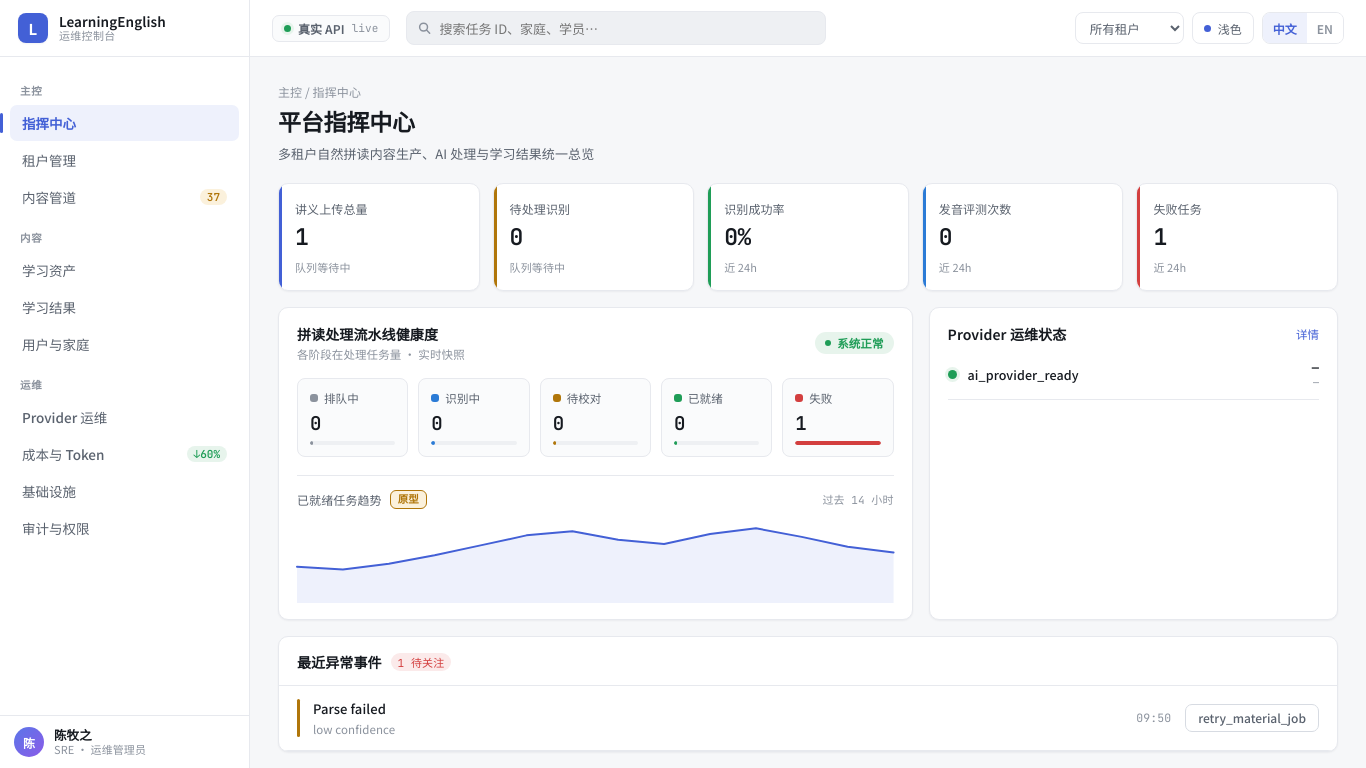
it: live wiring (newly connected endpoints) › renders live learning assets and flags no-backend controls as prototype
Check: the text "真实 API" is shown, box [298, 20, 345, 36]
Click the button "学习资产": (124,270) [10, 252, 239, 288]
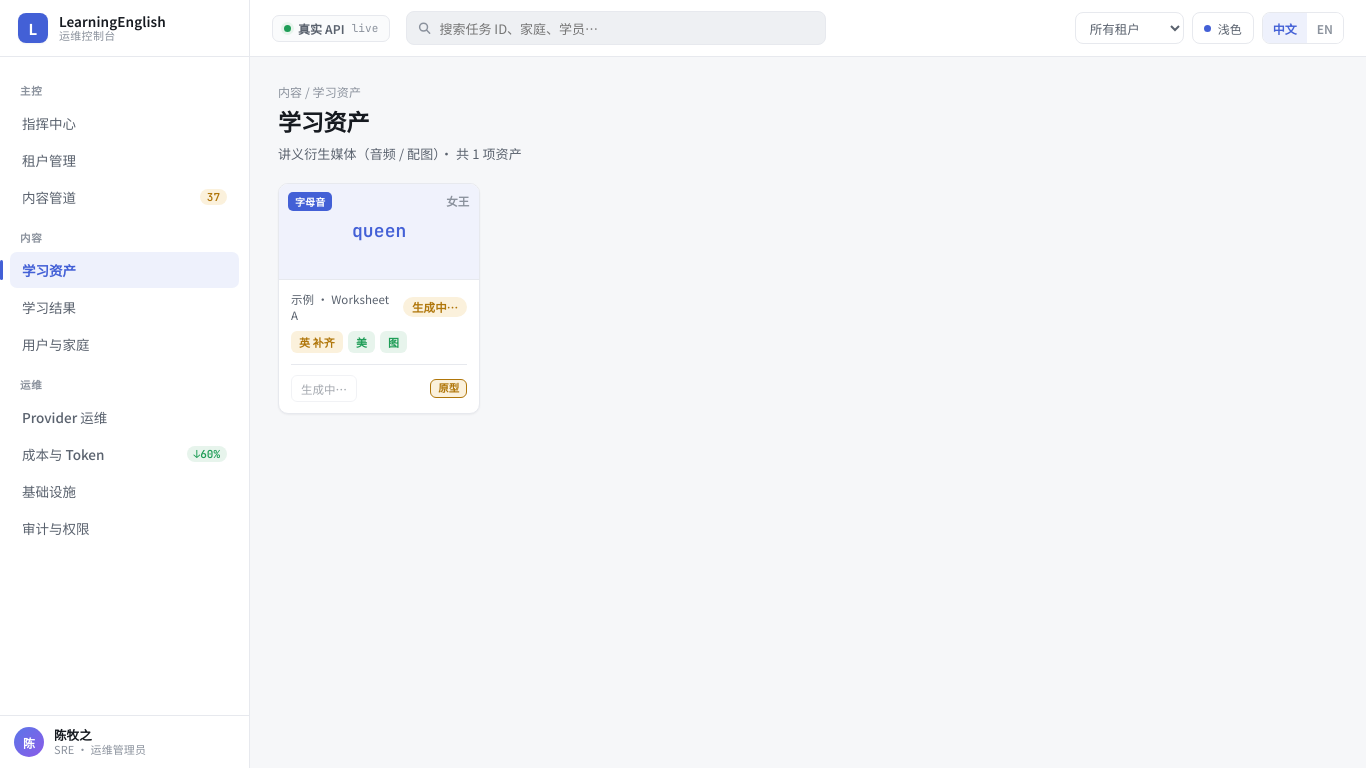
Check: the text "原型" is shown, box [430, 379, 467, 398]
Check: the text "queen" is shown, box [352, 219, 406, 242]
